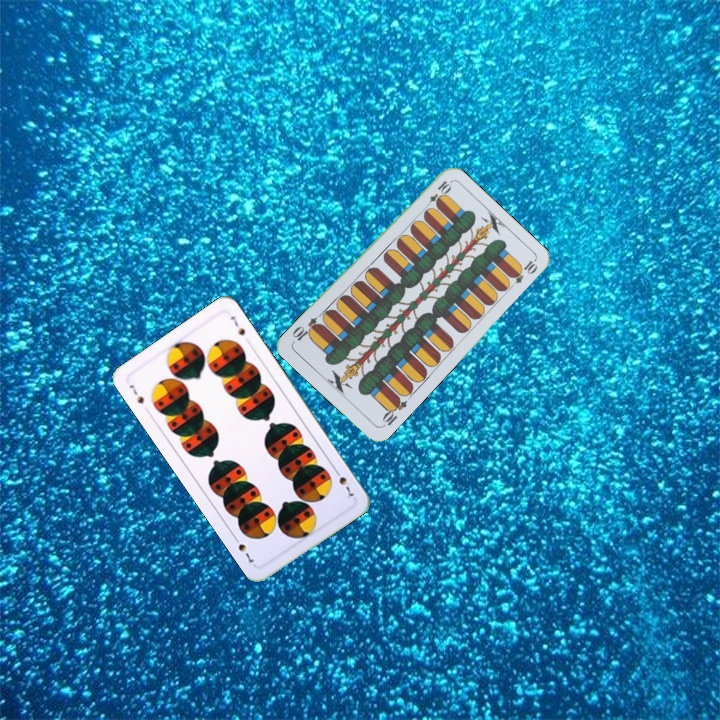E10: (378, 393, 410, 430), (421, 177, 453, 212)
S7: (330, 464, 356, 501), (125, 380, 147, 406)
